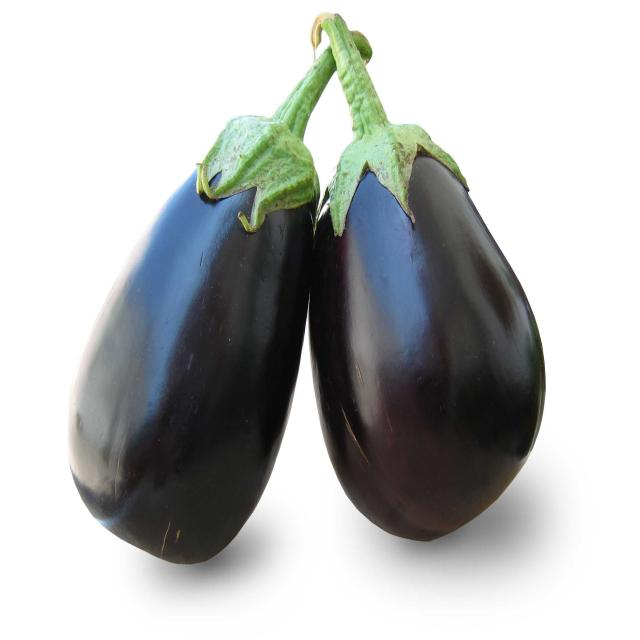Eggplant-r1Ob: (69, 47, 336, 563), (309, 13, 545, 540)
